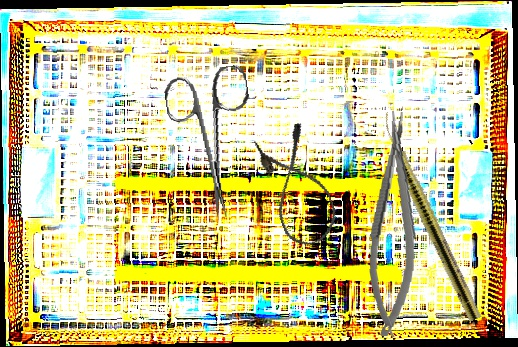Cannula: (251, 121, 344, 252)
Handpiece: (373, 110, 485, 323)
Iris Scissors: (162, 63, 265, 224)
Needle Holder: (361, 109, 428, 339)
